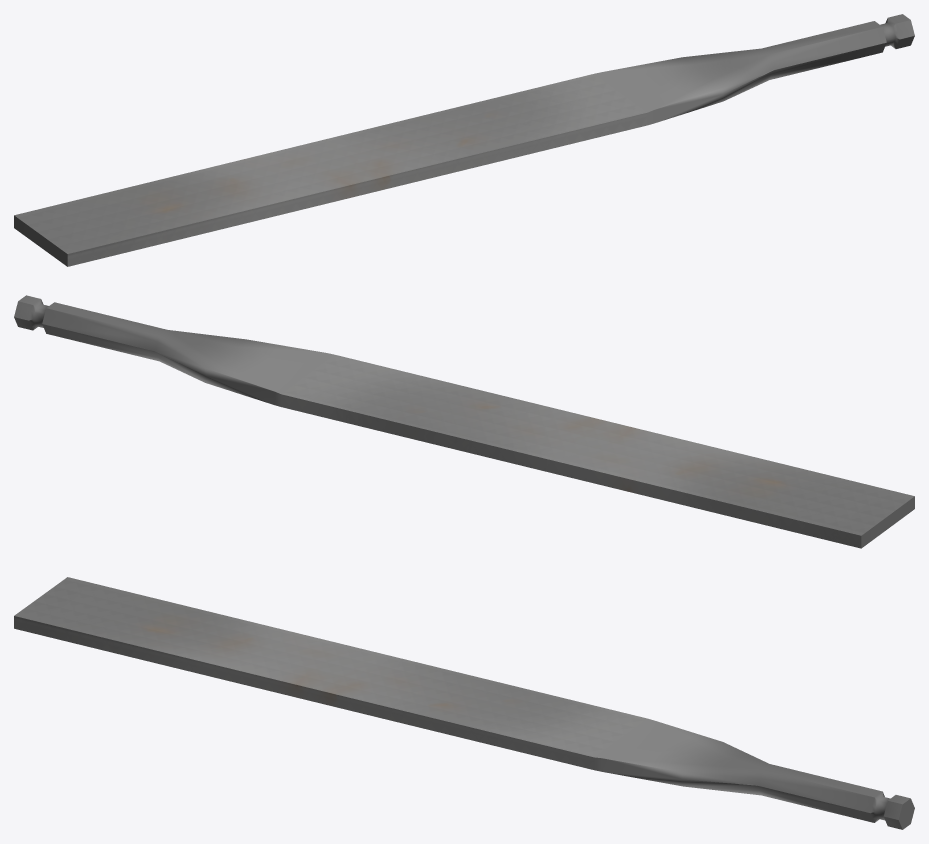
The picture shows the model from 3 angles, top to bottom: view 1: azimuth 30°, elevation 25°; view 2: azimuth 150°, elevation 25°; view 3: azimuth 330°, elevation 25°; orthographic projection.
Parts seen in each view (by area): view 1: file; view 2: file; view 3: file.
Part boxes in pixels (<box>): file: <box>14,14,914,266</box>; file: <box>14,295,914,548</box>; file: <box>14,577,914,829</box>.
Size of the model in its own units: 13.65 by 0.3859 by 1.46.
Materials: 2 (2 with a texture image).
